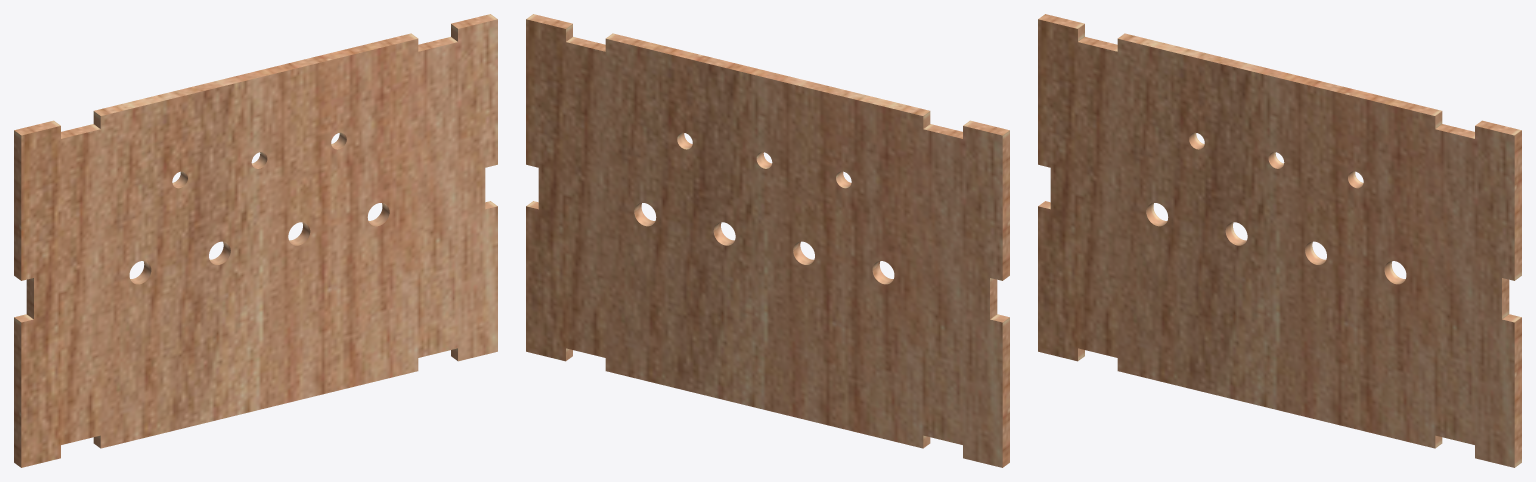
File: Front Panel.obj
3 views of the same model, side by side, from view 1: azimuth 30°, elevation 25°; view 2: azimuth 150°, elevation 25°; view 3: azimuth 330°, elevation 25° (orthographic).
Parts seen in each view (by area): view 1: Solid1; view 2: Solid1; view 3: Solid1.
Boxes of the visible parts, box(x1,y1,x2,y2) form: Solid1: box(14, 14, 497, 467); Solid1: box(526, 14, 1009, 467); Solid1: box(1038, 14, 1521, 467).
Size of the model in its own units: 152 by 102 by 4.
1 material, 1 textured.
